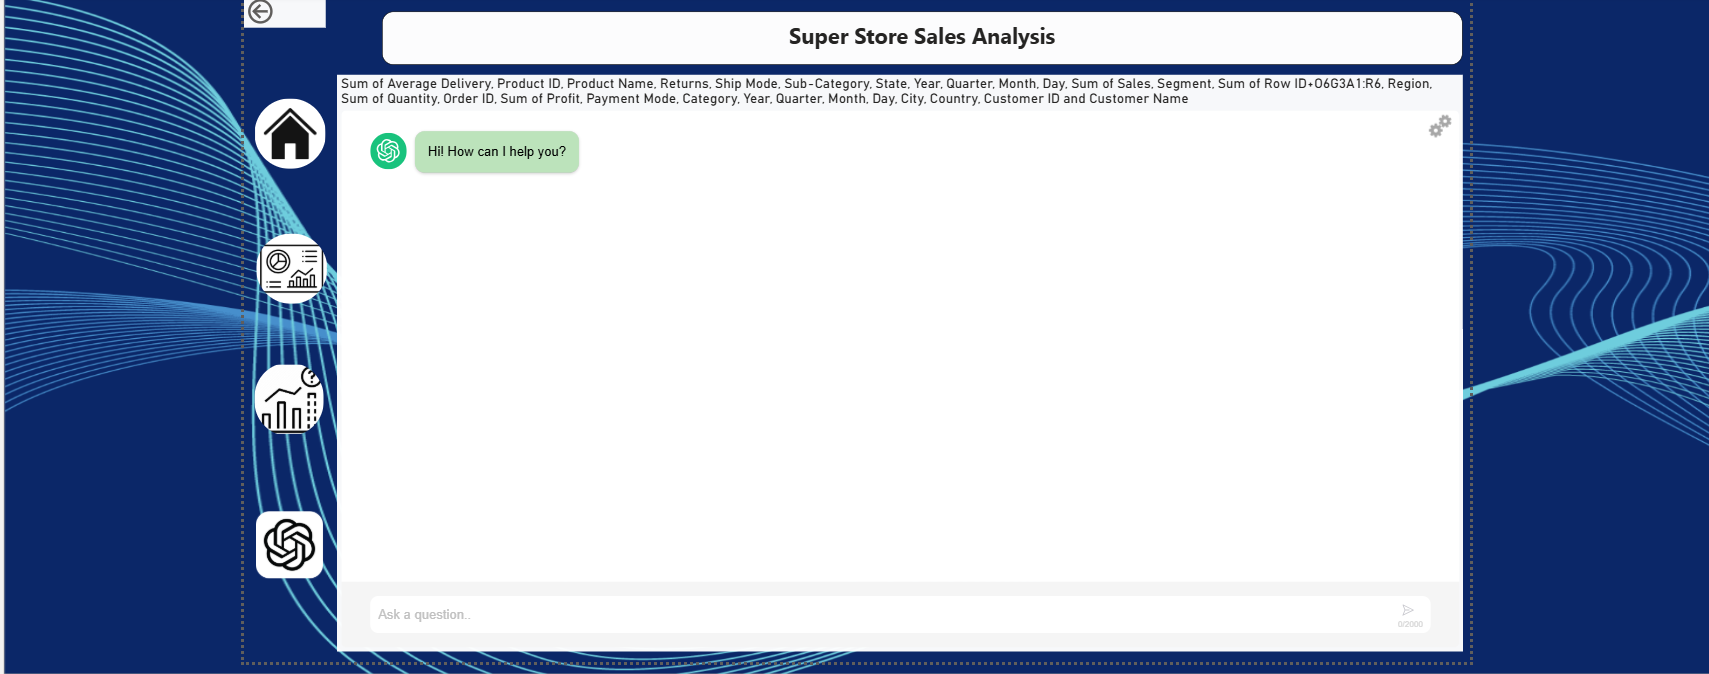

What the dashboard file says about the page in this screenshot:
{"tool":"powerbi","page":{"name":"Q&A / AI","canvas":[1500,816],"ordinal":3},"visuals":[{"type":"chatpowerbi_ai","fields":{"values":["Sum(SuperStore_Sales_Dataset.Average Delivery)","SuperStore_Sales_Dataset.Product ID","SuperStore_Sales_Dataset.Product Name","SuperStore_Sales_Dataset.Returns","SuperStore_Sales_Dataset.Ship Mode","SuperStore_Sales_Dataset.Sub-Category","SuperStore_Sales_Dataset.State","SuperStore_Sales_Dataset.Ship Date.Variation.Date Hierarchy.Year","SuperStore_Sales_Dataset.Ship Date.Variation.Date Hierarchy.Quarter","SuperStore_Sales_Dataset.Ship Date.Variation.Date Hierarchy.Month","SuperStore_Sales_Dataset.Ship Date.Variation.Date Hierarchy.Day","Sum(SuperStore_Sales_Dataset.Sales)"]},"box":[113.6,97,1377.6,705.4],"z":0},{"type":"actionButton","box":[0,0,100,40],"z":1000},{"type":"textbox","box":[169.1,19.4,1322.1,65.1],"z":2000},{"type":"image","box":[12.5,126.1,87.3,85.9],"z":3000},{"type":"image","box":[13.9,291,87.3,85.9],"z":4000},{"type":"image","box":[12.5,450.4,84.5,90.1],"z":5000},{"type":"image","box":[13.9,627.8,81.8,90.1],"z":6000}]}

Visuals, with their boxes on the page's 1500x816 design canvas (x1, y1, x2, y2). These are canvas units, not pixel positions in the 1709x674 screenshot, which may show the page scaled, cropped or inside an application window:
chatpowerbi_ai - Sum(SuperStore_Sales_Dataset.Average Delivery) x SuperStore_Sales_Dataset.Product ID: rect(114, 97, 1491, 802)
actionButton: rect(0, 0, 100, 40)
textbox: rect(169, 19, 1491, 84)
image: rect(12, 126, 100, 212)
image: rect(14, 291, 101, 377)
image: rect(12, 450, 97, 540)
image: rect(14, 628, 96, 718)
